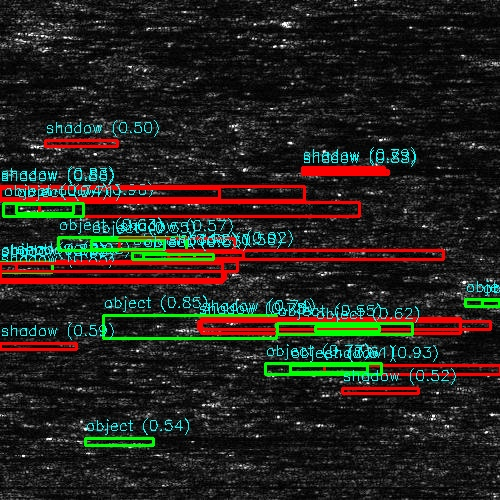rock: (213, 361, 410, 378), (54, 238, 169, 251), (114, 250, 249, 261), (15, 202, 78, 217), (465, 52, 500, 65), (264, 169, 337, 174), (0, 264, 45, 271)
shadow: (47, 202, 349, 217), (312, 361, 500, 378), (182, 250, 414, 261), (112, 238, 265, 251), (14, 264, 237, 271), (0, 191, 210, 198), (301, 169, 381, 174), (0, 343, 75, 348)
